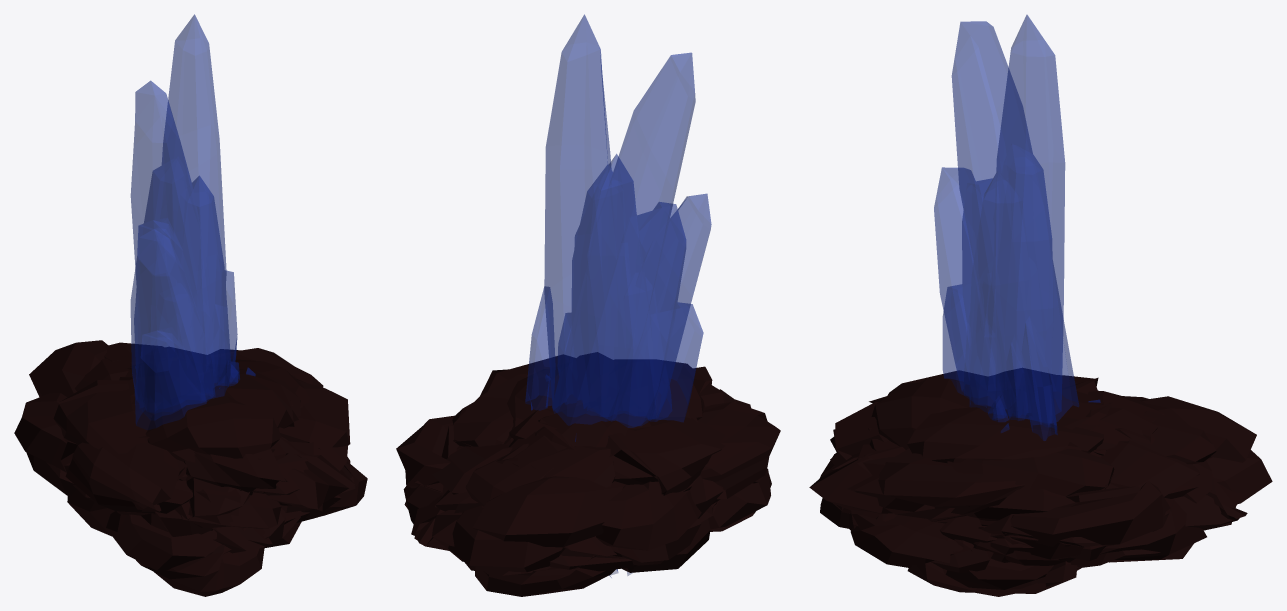
File: crystal14.obj
3 views of the same model, side by side, from view 1: azimuth 30°, elevation 25°; view 2: azimuth 150°, elevation 25°; view 3: azimuth 270°, elevation 25° (orthographic). The views are drawn at different scales.
Visible parts, largest first — view 1: Cube.001, Circle, Circle.001; view 2: Cube.001, Circle, Circle.001; view 3: Cube.001, Circle, Circle.001.
Part boxes in pixels (box(x1,y1,x2,y2)): Cube.001: box(14, 340, 367, 596); Circle: box(130, 14, 255, 400); Circle.001: box(134, 176, 239, 429); Cube.001: box(396, 352, 780, 596); Circle: box(525, 14, 695, 441); Circle.001: box(571, 164, 711, 577); Cube.001: box(809, 368, 1272, 596); Circle: box(951, 15, 1100, 440); Circle.001: box(934, 167, 1028, 421).
Bounding box in the file's own units: 2.7 × 4.84 × 3.57.
